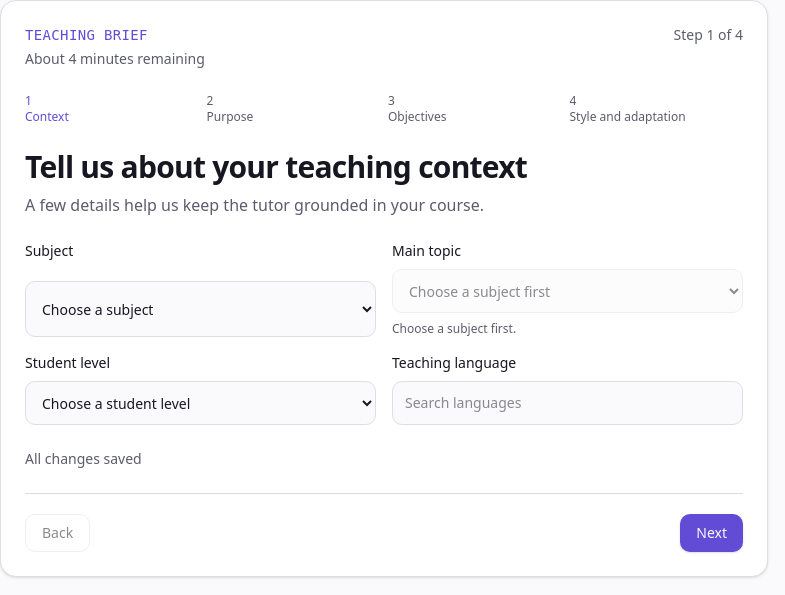
Test: TeachingBriefWizard › supports Back, Next, and radio keyboard interaction with visible focus
The image size is (785, 595).
Select "Mathematics" in the dropdown labelled "Subject" at (200, 309), box [25,281,376,337]
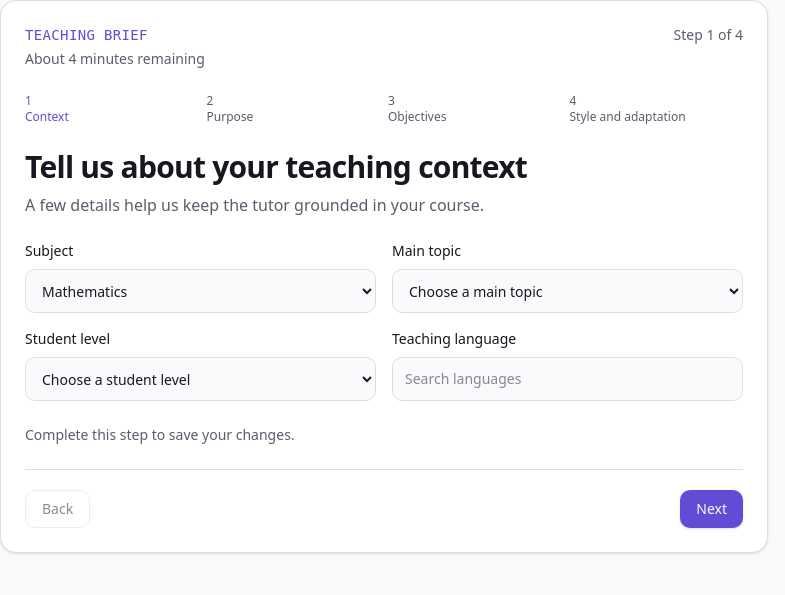
Select "Statistics and probability" in the dropdown labelled "Main topic" at (568, 291), box [392,269,743,313]
Select "Undergraduate" in the dropdown labelled "Student level" at (200, 379), box [25,357,376,401]
Type "English" into the dropdown labelled "Teaching language" at (568, 379), box [392,357,743,401]
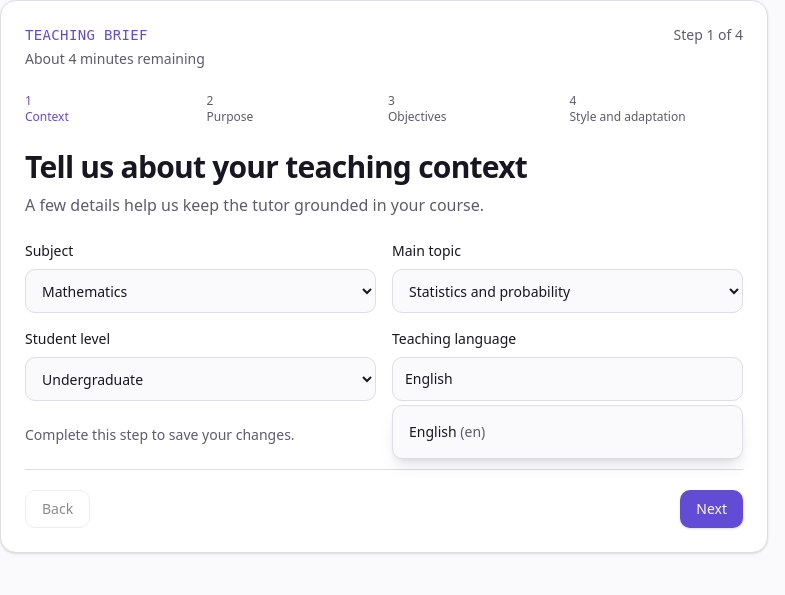
Click the button "English (en)" at (433, 432), box [397,410,738,454]
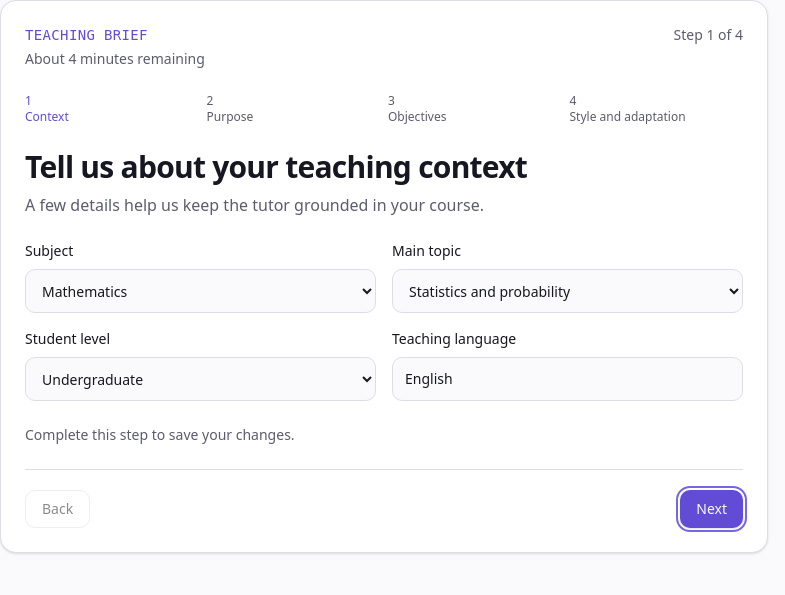
Press Enter
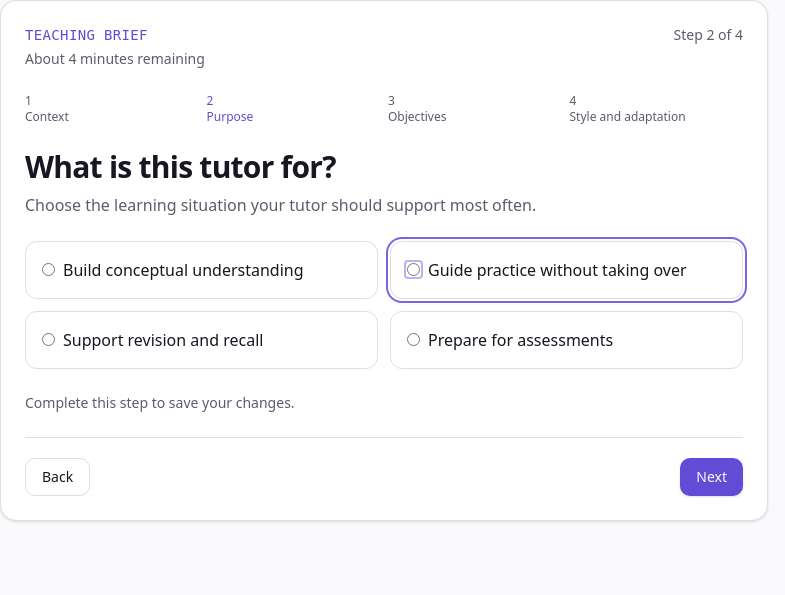
Type keys " "
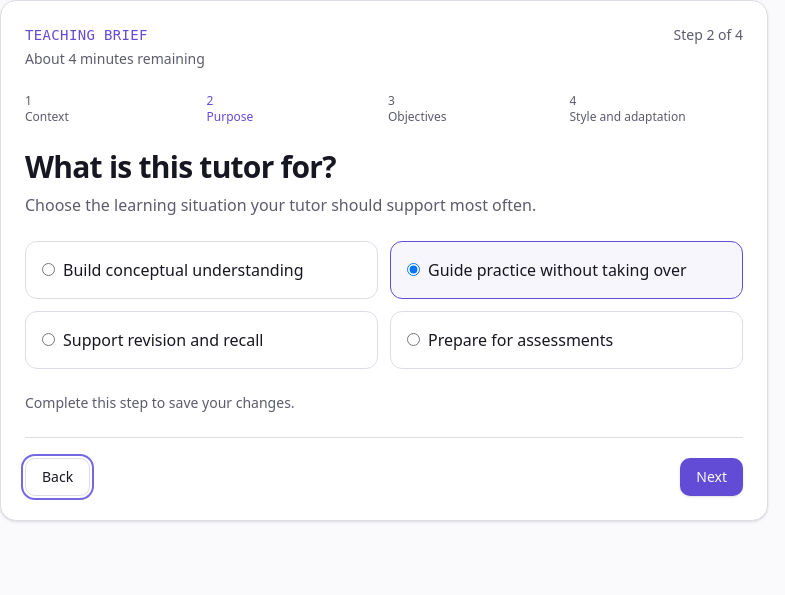
expect the radio button labelled "Guide practice without taking over" is checked: met, box [407,263,420,276]
Press Enter
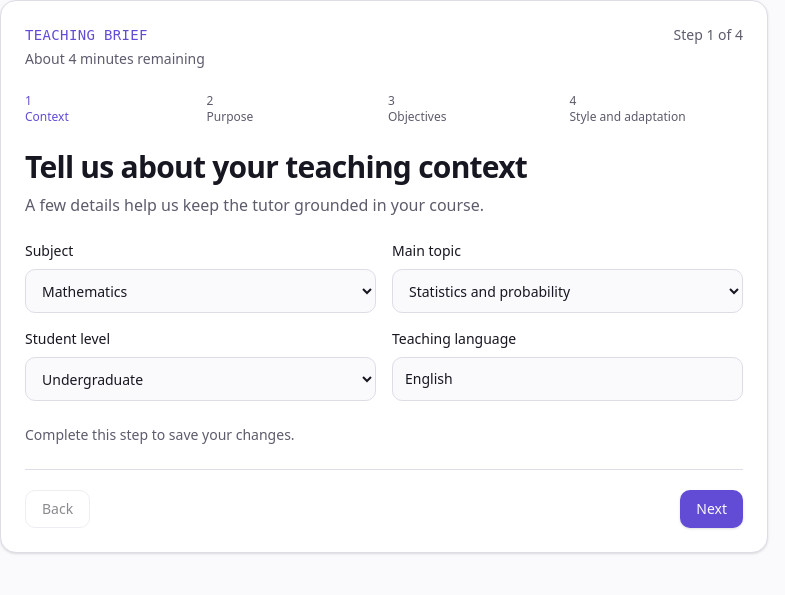
expect the heading "Tell us about your teaching context" is shown: met, box [25,146,527,187]
